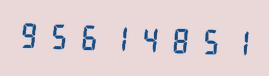eight: (162, 20, 190, 57)
five: (46, 16, 74, 53), (191, 22, 219, 58)
four: (133, 19, 161, 56)
nine: (17, 15, 45, 52)
one: (104, 18, 132, 55), (220, 23, 248, 59)
six: (75, 17, 103, 54)
